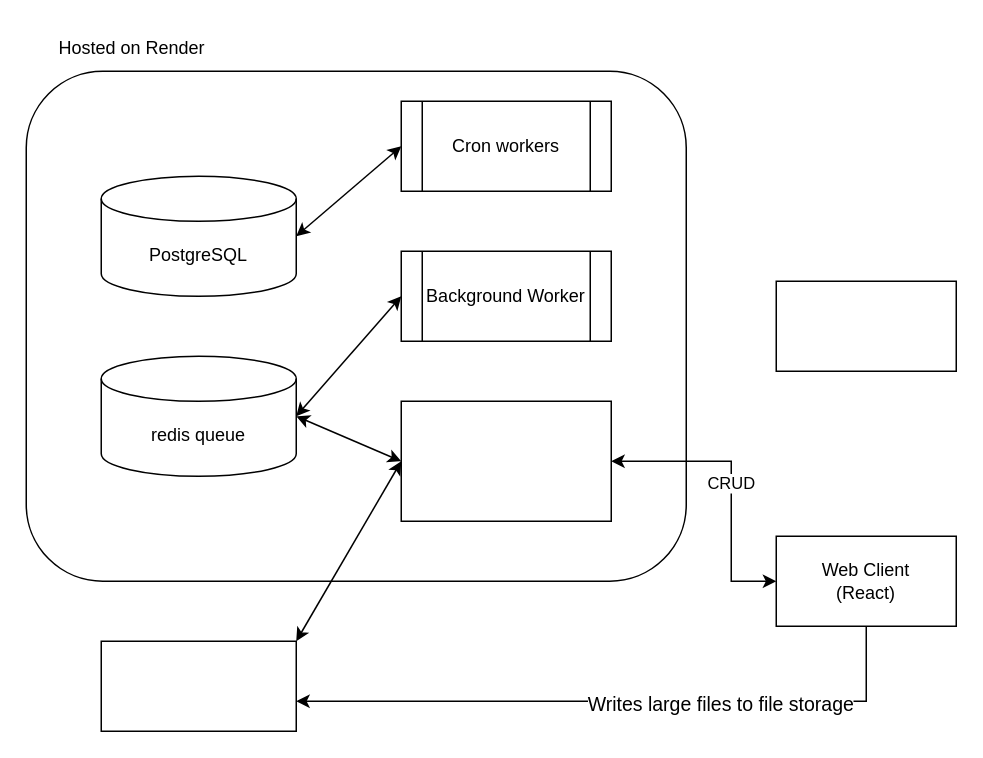
Some shapes in this 983 by 758 pixel diagram are drawn without their labels. The shapes that lost their labels are listed below. From the top down, each one's centre as x and y in pixels, then its label:
At point (865, 325): "Mobile App (React Native)".
At point (505, 460): "Express Open API".
At point (198, 685): "Static file storage (Backblaze / MinIO)".
